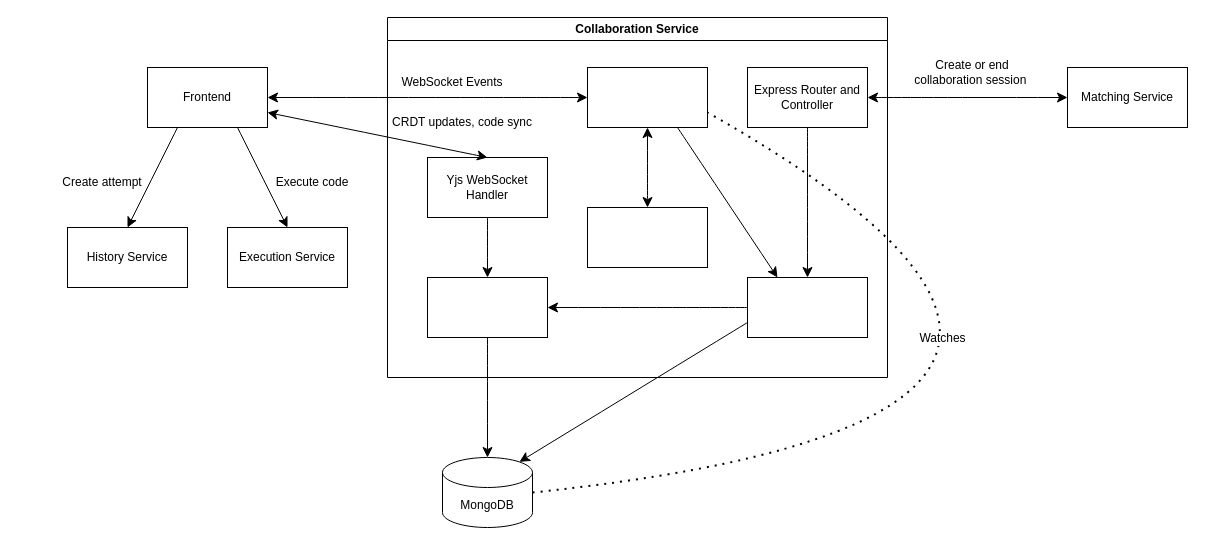
Image size: 1205x545. Some labels were removed from this diagram. Each missing label, with the centre of its shape:
"Gemini AI" belongs at (x=647, y=237).
"Session Repository" belongs at (x=487, y=307).
"Session Service" belongs at (x=807, y=307).
"Socket.IO Manager" belongs at (x=647, y=97).
